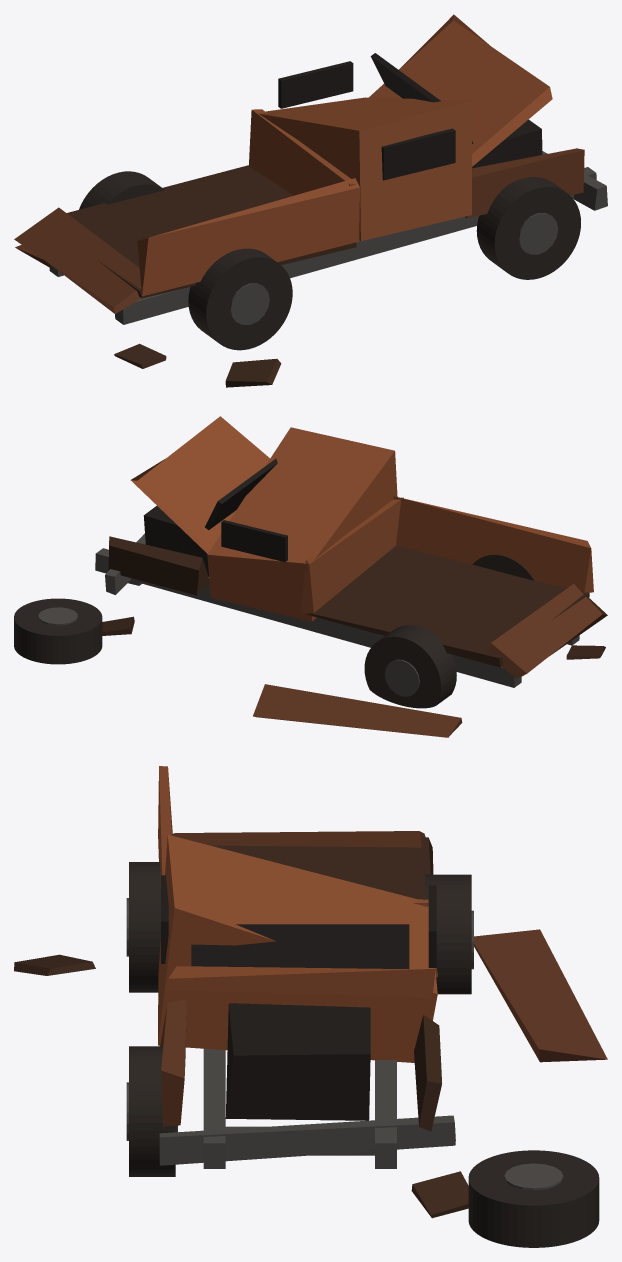
The model's file is wreck.glb.
The picture shows the model from 3 angles, top to bottom: view 1: azimuth 30°, elevation 25°; view 2: azimuth 150°, elevation 25°; view 3: azimuth 270°, elevation 25°; orthographic projection. The views are drawn at different scales.
Parts seen in each view (by area): view 1: wreck; view 2: wreck; view 3: wreck.
Part boxes in pixels (x1,y1,x2,y2): wreck: [14, 14, 607, 387]; wreck: [14, 416, 607, 737]; wreck: [14, 766, 607, 1247].
Bounding box in the file's own units: 5.16 × 1.7 × 3.81.
